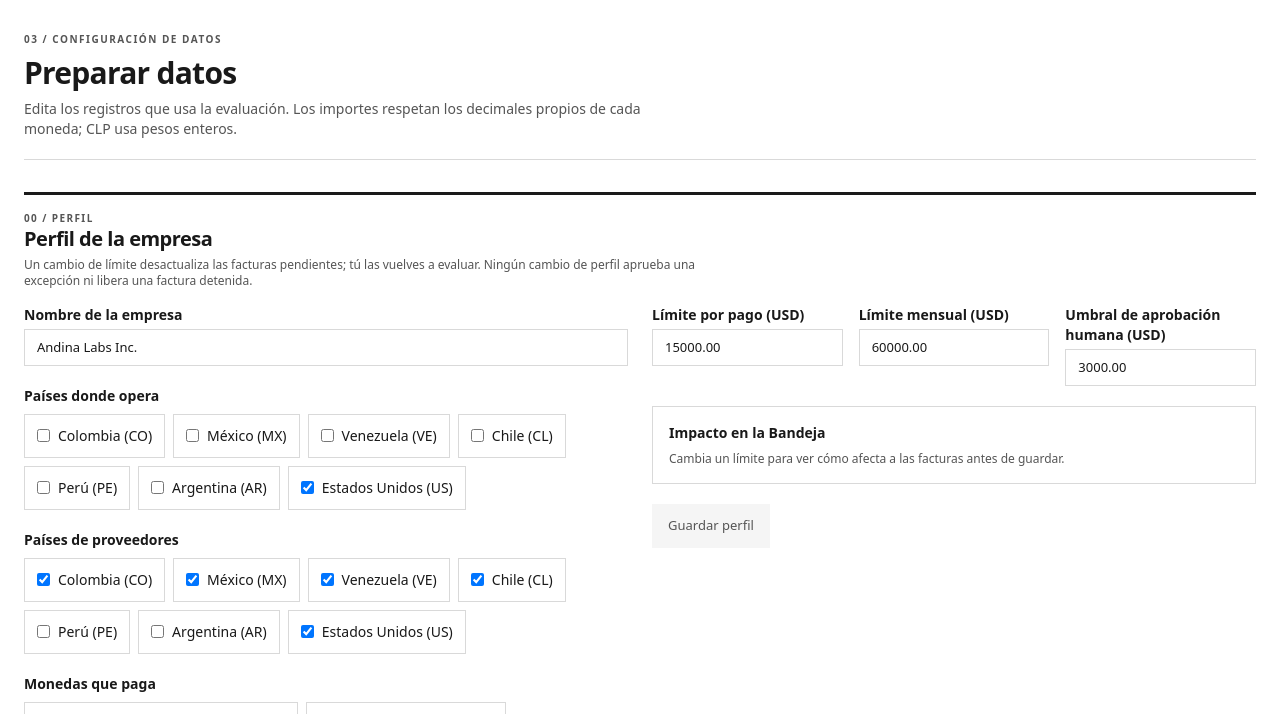
Test: Datos company profile editor › refuses an approval threshold at or above the payment limit without previewing
The width and height of the screenshot is (1280, 714).
expect the field labelled "Nombre de la empresa" is shown: met, box [24,329,628,366]
Replace the text in the field labelled "Umbral de aprobación humana (USD)" with "20000.00" at (1161, 367), box [1065,349,1256,386]
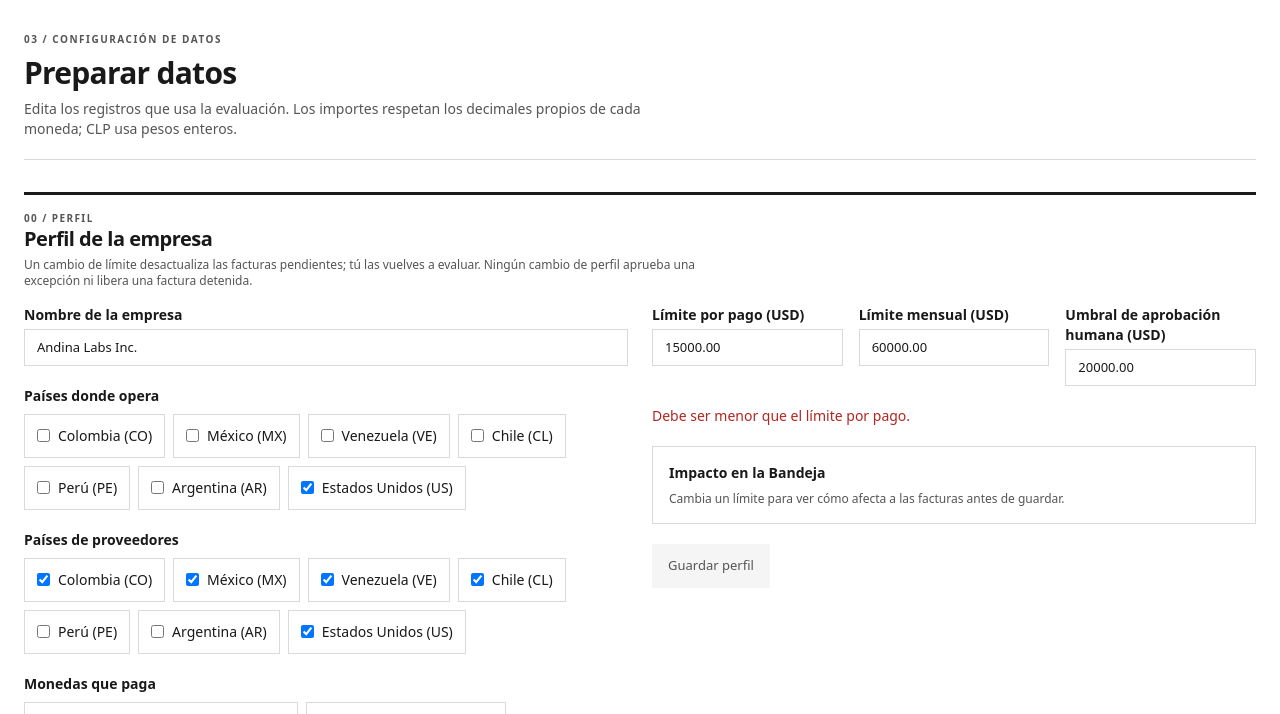
expect the button "Guardar perfil" is disabled: met, box [652,544,770,588]
expect the text "Debe ser menor que el límite por pago." is shown: met, box [652,406,910,425]
